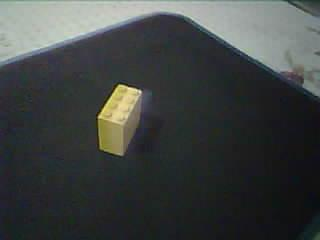lego: (96, 81, 143, 158)
